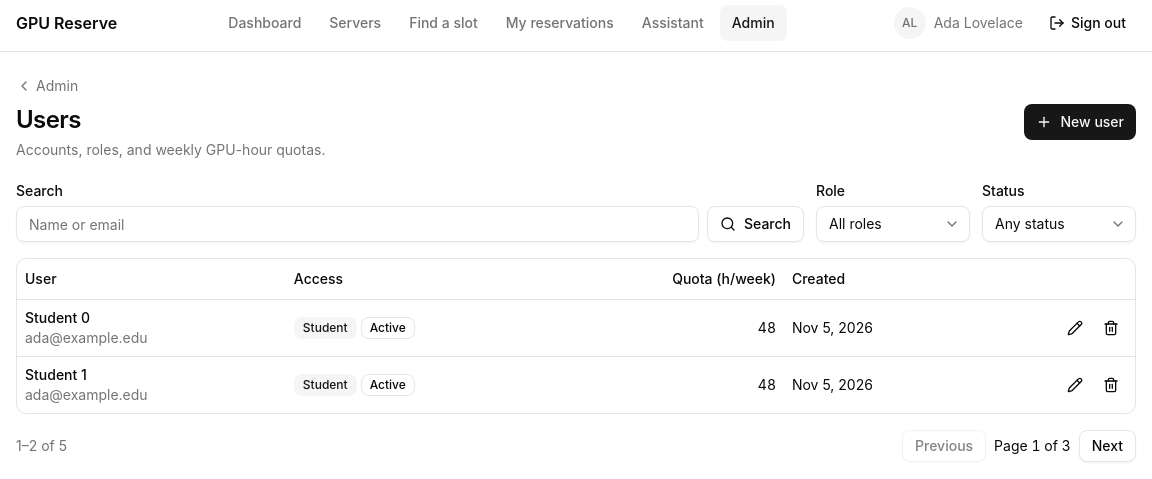
Scenario: user list › pages through the results
Expected: the text "1–2 of 5" is shown, [16, 436, 67, 456]
Expected: the text "Page 1 of 3" is shown, [994, 436, 1071, 456]
Click the button "Next". click: coordinates (1107, 446)
box: [1079, 430, 1136, 462]
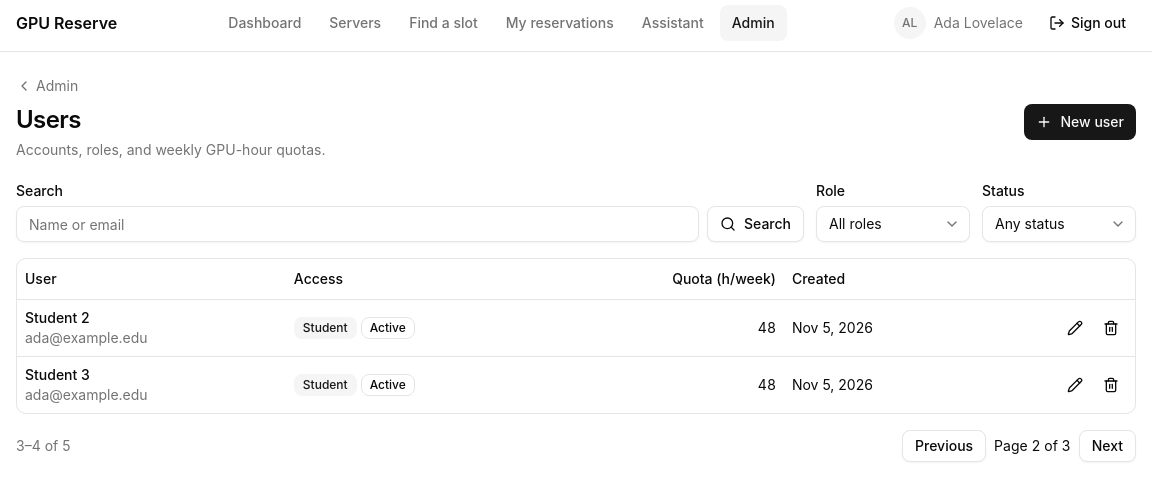
Expected: the text "3–4 of 5" is shown, [16, 436, 70, 456]
Click the button "Next". click: coordinates (1107, 446)
box: [1079, 430, 1136, 462]
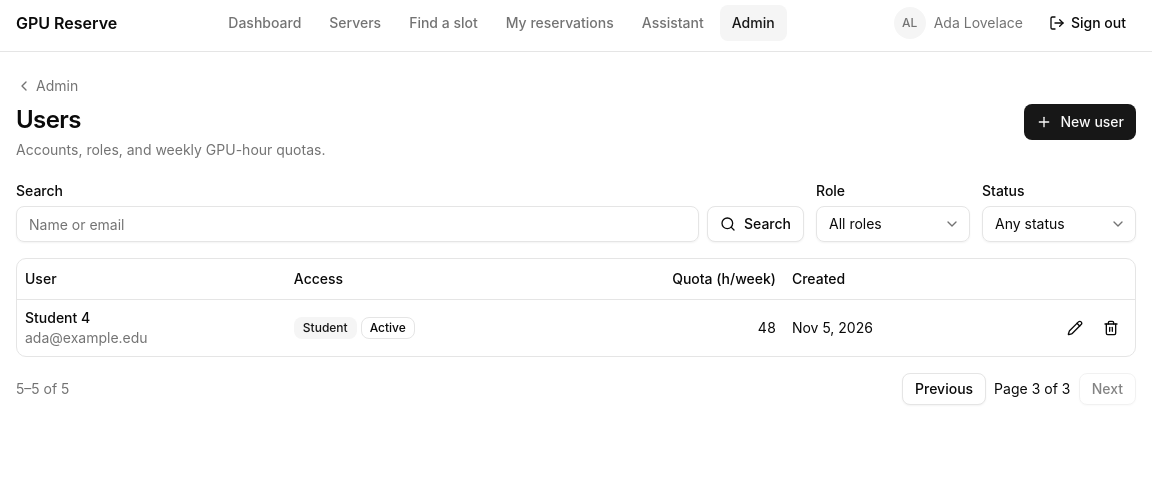
Expected: the text "5–5 of 5" is shown, [16, 378, 69, 398]
Expected: the button "Next" is disabled, [1079, 372, 1136, 404]
